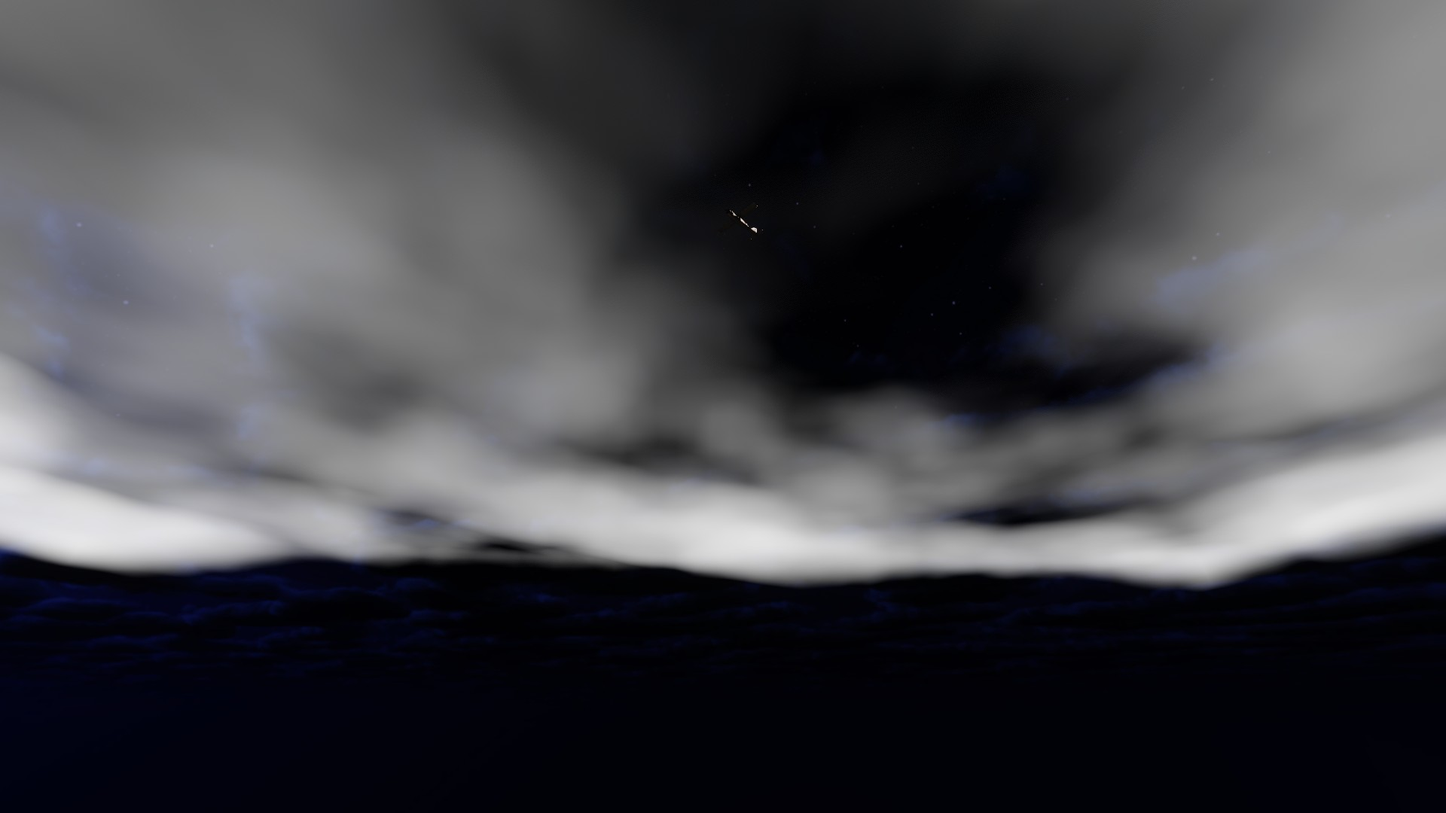drone_other: (718, 202, 764, 240)
